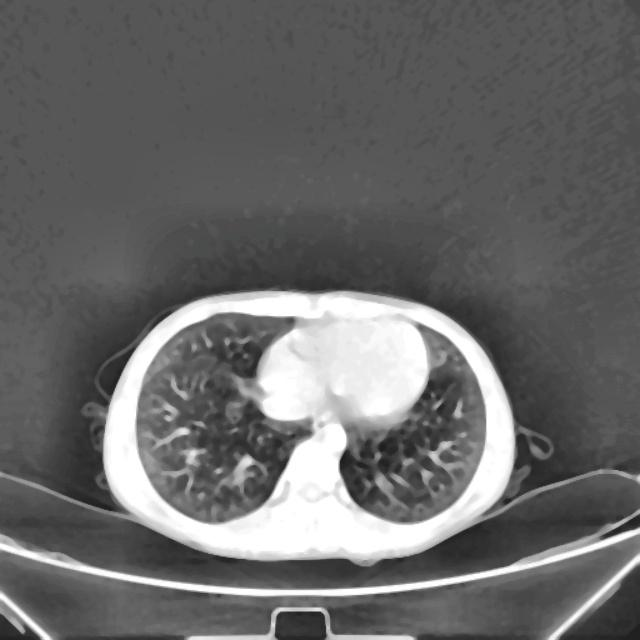covid: (87, 287, 519, 566)
